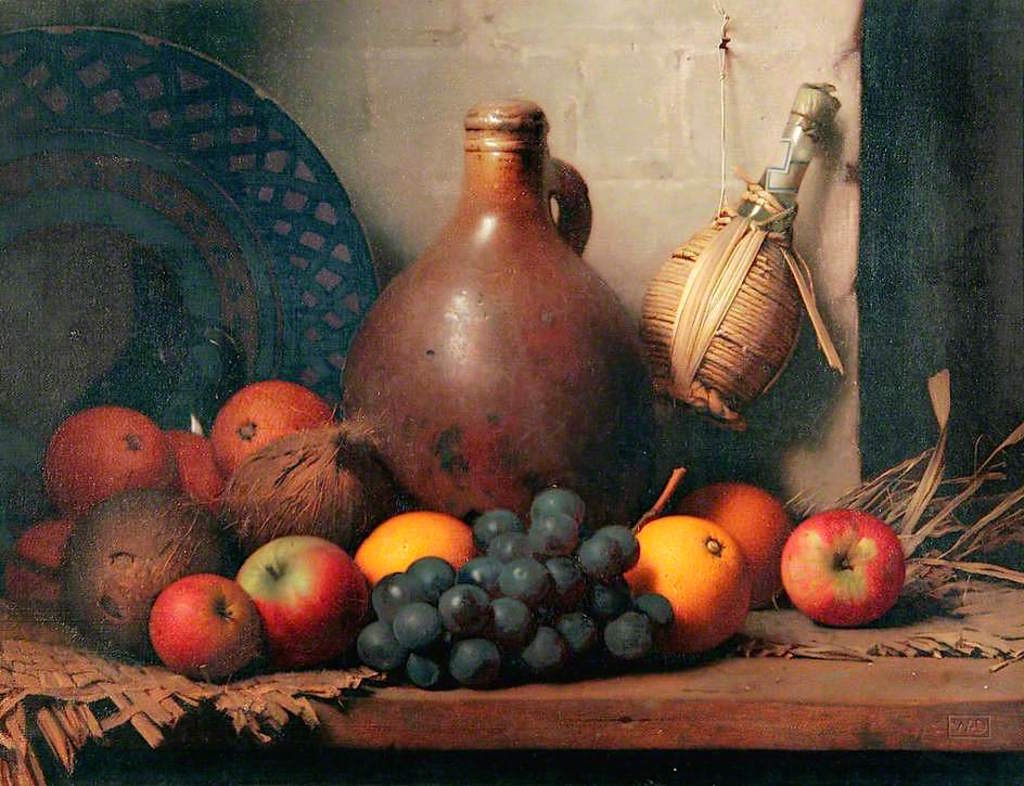Apple: (234, 542, 356, 671), (148, 570, 265, 684), (782, 511, 901, 620)
